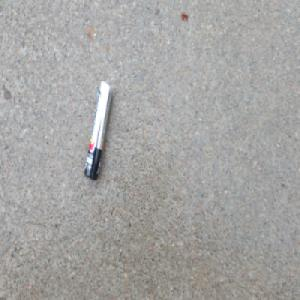Battery: (83, 79, 113, 181)
